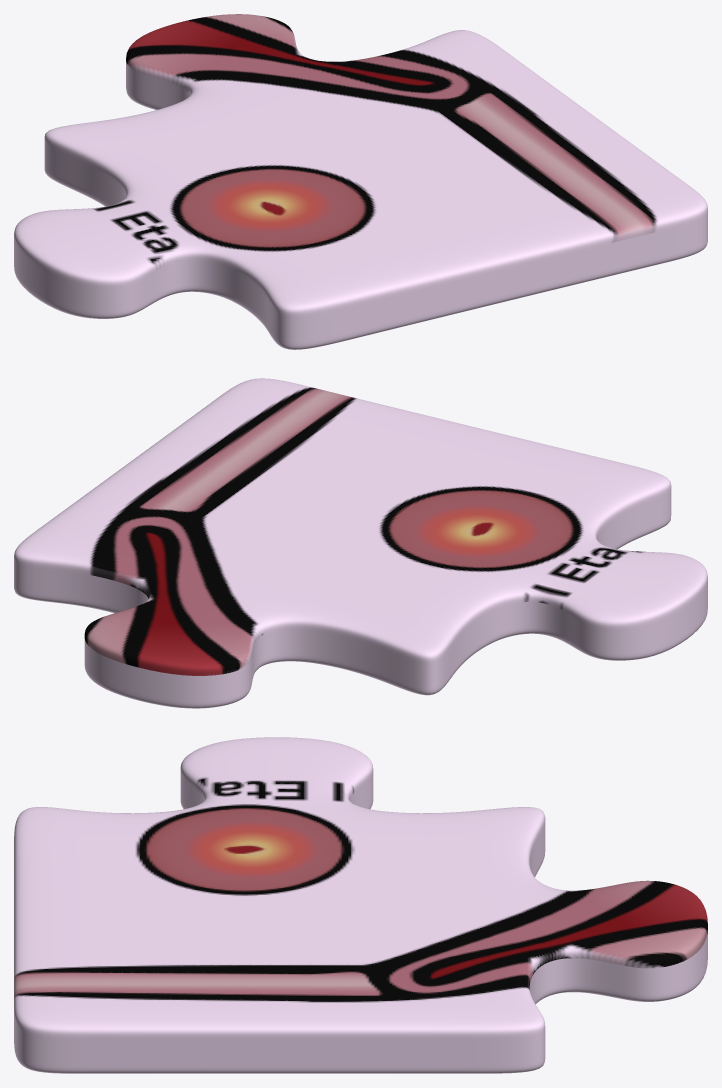
File: Pieza 6.fbx
The picture shows the model from 3 angles, top to bottom: view 1: azimuth 30°, elevation 25°; view 2: azimuth 150°, elevation 25°; view 3: azimuth 270°, elevation 25°; orthographic projection. The views are drawn at different scales.
Visible parts, largest first — view 1: Plane.008; view 2: Plane.008; view 3: Plane.008.
Boxes of the visible parts, x1,y1,x2,y2 form: Plane.008: [14, 14, 707, 349]; Plane.008: [14, 378, 707, 708]; Plane.008: [14, 737, 707, 1073].
Size of the model in its own units: 60.61 by 5 by 60.61.
